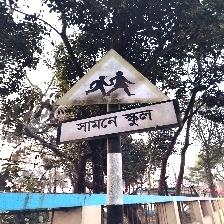School-in-front: (53, 48, 180, 146)
